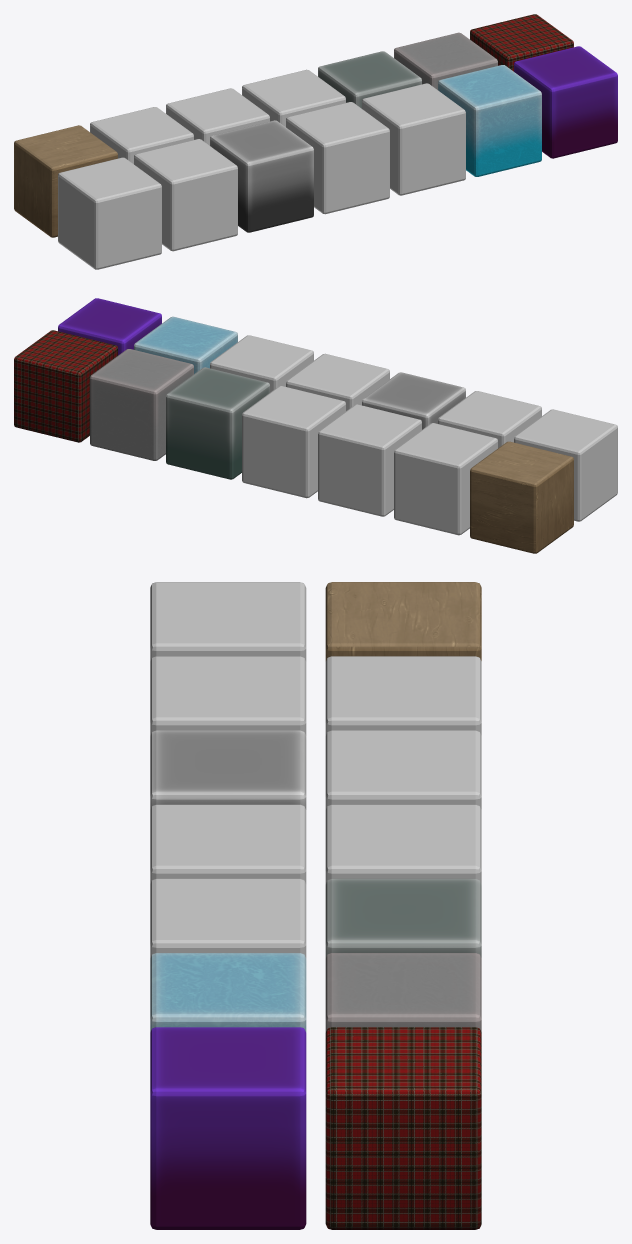
Rendered from Cubes 1.fbx.
3 renders of one model, top to bottom at view 1: azimuth 30°, elevation 25°; view 2: azimuth 150°, elevation 25°; view 3: azimuth 270°, elevation 25°, orthographic. The views are drawn at different scales.
Parts seen in each view (by area): view 1: Cube__6_, Cube__2_, Cube, Cube__4_, Cube__5_, Cube__1_, Cube__3_, Cube__13_, Cube__8_, Cube__7_, Cube__9_, Cube__10_ (+2 smaller); view 2: Cube__13_, Cube__9_, Cube__7_, Cube__11_, Cube__12_, Cube__8_, Cube__10_, Cube__6_, Cube__1_, Cube, Cube__2_, Cube__3_ (+2 smaller); view 3: Cube, Cube__7_, Cube__1_, Cube__8_, Cube__2_, Cube__6_, Cube__9_, Cube__13_, Cube__3_, Cube__4_, Cube__5_, Cube__10_ (+2 smaller).
Part boxes in pixels (left/top/right/bottom): Cube__6_: left=58, top=157, right=161, bottom=269; Cube__2_: left=362, top=83, right=465, bottom=195; Cube: left=514, top=46, right=617, bottom=158; Cube__4_: left=210, top=120, right=313, bottom=232; Cube__5_: left=134, top=139, right=237, bottom=251; Cube__1_: left=438, top=65, right=541, bottom=176; Cube__3_: left=286, top=102, right=389, bottom=214; Cube__13_: left=14, top=125, right=117, bottom=237; Cube__8_: left=394, top=32, right=497, bottom=89; Cube__7_: left=470, top=14, right=573, bottom=71; Cube__9_: left=318, top=51, right=421, bottom=108; Cube__10_: left=242, top=69, right=345, bottom=126; Cube__13_: left=470, top=441, right=573, bottom=553; Cube__9_: left=166, top=367, right=269, bottom=479; Cube__7_: left=14, top=330, right=117, bottom=442; Cube__11_: left=318, top=404, right=421, bottom=516; Cube__12_: left=394, top=423, right=497, bottom=535; Cube__8_: left=90, top=349, right=193, bottom=460; Cube__10_: left=242, top=386, right=345, bottom=498; Cube__6_: left=514, top=409, right=617, bottom=521; Cube__1_: left=134, top=316, right=237, bottom=373; Cube: left=58, top=298, right=161, bottom=355; Cube__2_: left=210, top=335, right=313, bottom=392; Cube__3_: left=286, top=353, right=389, bottom=410; Cube: left=150, top=1027, right=306, bottom=1229; Cube__7_: left=325, top=1027, right=481, bottom=1229; Cube__1_: left=150, top=953, right=306, bottom=1032; Cube__8_: left=325, top=953, right=481, bottom=1032; Cube__2_: left=150, top=878, right=306, bottom=957; Cube__6_: left=150, top=582, right=306, bottom=661; Cube__9_: left=325, top=878, right=481, bottom=957; Cube__13_: left=325, top=582, right=481, bottom=661; Cube__3_: left=150, top=804, right=306, bottom=883; Cube__4_: left=150, top=730, right=306, bottom=809; Cube__5_: left=150, top=656, right=306, bottom=735; Cube__10_: left=325, top=804, right=481, bottom=883.
Size of the model in its own units: 1550 by 200 by 425.
